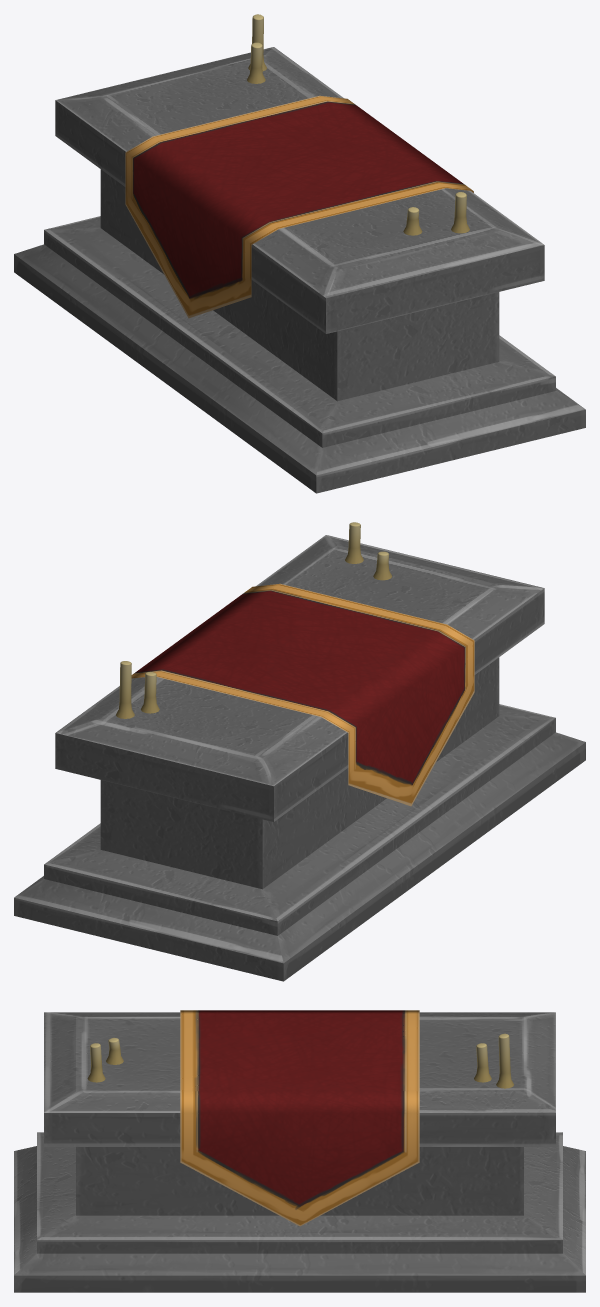
File: BD_Altar_Shattered.fbx
3 views of the same model, one above another, from view 1: azimuth 30°, elevation 25°; view 2: azimuth 150°, elevation 25°; view 3: azimuth 270°, elevation 25° (orthographic). The views are drawn at different scales.
Parts seen in each view (by area): view 1: BD_Altar_Shattered7, BD_Altar_Shattered2, BD_Altar_Shattered, BD_Altar_Shattered8, BD_Altar_Shattered13, BD_Altar_Shattered1, BD_Altar_Shattered10, BD_Altar_Shattered9, BD_Altar_Shattered11; view 2: BD_Altar_Shattered8, BD_Altar_Shattered2, BD_Altar_Shattered9, BD_Altar_Shattered7, BD_Altar_Shattered13, BD_Altar_Shattered1, BD_Altar_Shattered10, BD_Altar_Shattered, BD_Altar_Shattered11, BD_Altar_Shattered6; view 3: BD_Altar_Shattered1, BD_Altar_Shattered, BD_Altar_Shattered9, BD_Altar_Shattered12, BD_Altar_Shattered11, BD_Altar_Shattered2, BD_Altar_Shattered8, BD_Altar_Shattered7, BD_Altar_Shattered10, BD_Altar_Shattered6, BD_Altar_Shattered5, BD_Altar_Shattered13 (+1 smaller).
Part boxes in pixels (x1,y1,x2,y2): BD_Altar_Shattered7: (207,224,501,493); BD_Altar_Shattered2: (125,129,418,318); BD_Altar_Shattered: (381,206,585,448); BD_Altar_Shattered8: (14,74,228,307); BD_Altar_Shattered13: (63,115,231,397); BD_Altar_Shattered1: (183,95,473,194); BD_Altar_Shattered10: (182,209,380,413); BD_Altar_Shattered9: (163,47,342,114); BD_Altar_Shattered11: (360,188,492,224); BD_Altar_Shattered8: (101,702,336,981); BD_Altar_Shattered2: (291,590,474,806); BD_Altar_Shattered9: (14,680,234,936); BD_Altar_Shattered7: (384,561,585,839); BD_Altar_Shattered13: (236,697,455,945); BD_Altar_Shattered1: (131,583,306,709); BD_Altar_Shattered10: (366,591,487,855); BD_Altar_Shattered: (275,535,433,591); BD_Altar_Shattered11: (256,570,383,604); BD_Altar_Shattered6: (116,661,134,718); BD_Altar_Shattered1: (180,1027,419,1226); BD_Altar_Shattered: (14,1053,207,1292); BD_Altar_Shattered9: (423,1052,585,1292); BD_Altar_Shattered12: (290,1052,477,1292); BD_Altar_Shattered11: (140,1053,303,1292); BD_Altar_Shattered2: (180,1010,419,1078); BD_Altar_Shattered8: (428,1012,585,1232); BD_Altar_Shattered7: (14,1012,151,1233); BD_Altar_Shattered10: (143,1012,180,1053); BD_Altar_Shattered6: (496,1033,513,1088); BD_Altar_Shattered5: (474,1043,491,1082); BD_Altar_Shattered13: (419,1012,436,1052).
Bounding box in the file's own units: 2.51 × 2.12 × 4.88.
